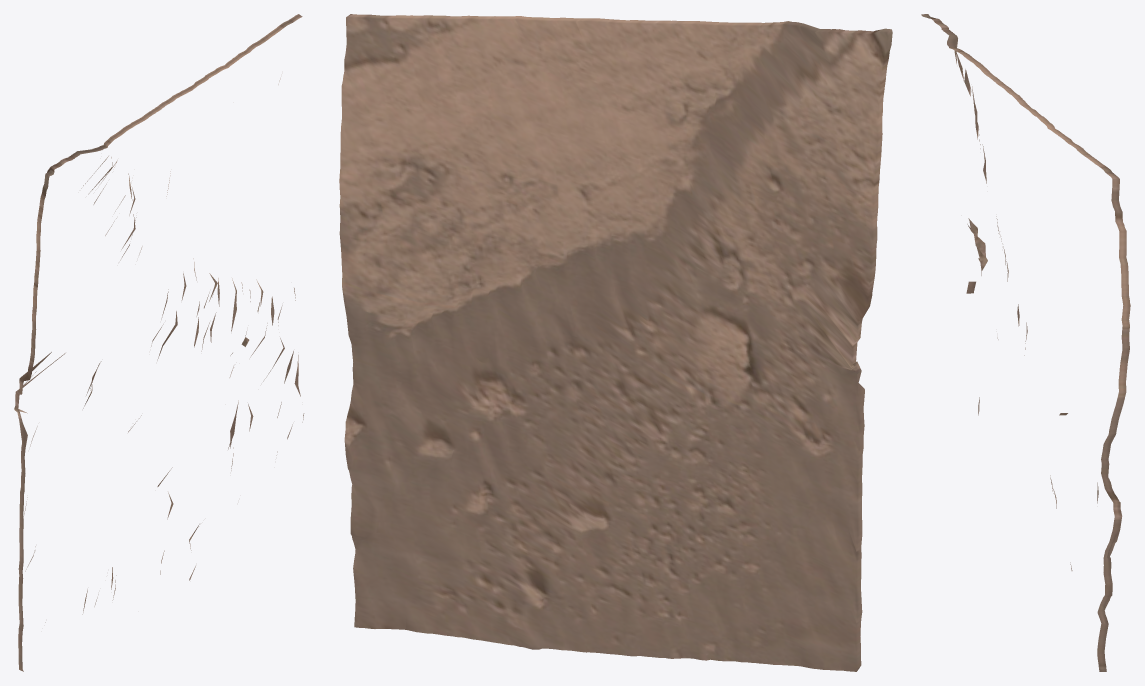
3 renders of one model, left to right at view 1: azimuth 30°, elevation 25°; view 2: azimuth 150°, elevation 25°; view 3: azimuth 270°, elevation 25°, orthographic. The views are drawn at different scales.
Size of the model in its own units: 0.5223 by 0.7275 by 0.28.
Materials: 1 (1 with a texture image).
